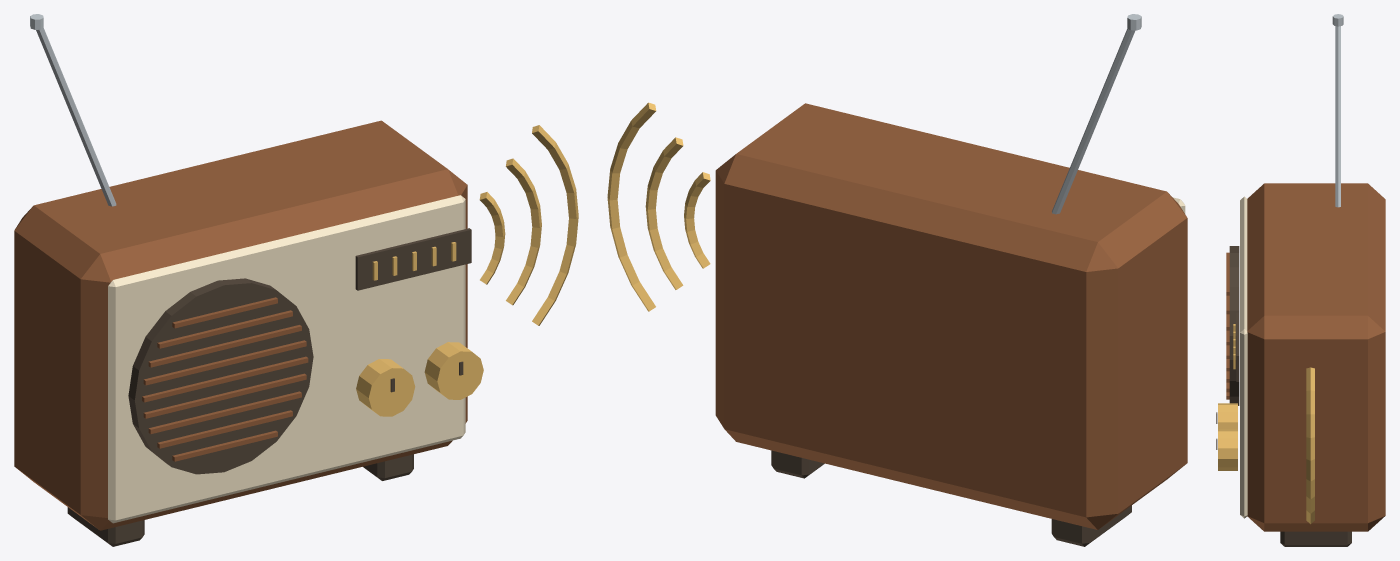
The model's file is radio.glb.
The picture shows the model from 3 angles, left to right: view 1: azimuth 30°, elevation 25°; view 2: azimuth 150°, elevation 25°; view 3: azimuth 270°, elevation 25°; orthographic projection. The views are drawn at different scales.
Parts seen in each view (by area): view 1: radio; view 2: radio; view 3: radio.
Boxes of the visible parts, x1,y1,x2,y2 form: radio: [14, 14, 578, 546]; radio: [607, 14, 1187, 546]; radio: [1216, 14, 1385, 546].
Bounding box in the file's own units: 0.433 × 0.402 × 0.1535.
